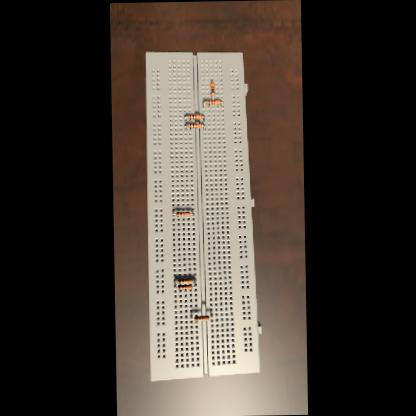breadboard: (142, 48, 262, 379)
resistor: (194, 314, 208, 320), (206, 98, 218, 104), (176, 277, 190, 282), (176, 283, 190, 288), (187, 113, 200, 118), (175, 210, 189, 214), (210, 81, 214, 95), (188, 122, 201, 126)
wire: (202, 100, 206, 106), (184, 124, 187, 128), (191, 314, 194, 318), (173, 283, 176, 286), (192, 282, 195, 285), (202, 124, 204, 128), (209, 313, 211, 317), (219, 101, 221, 105), (184, 116, 186, 119), (192, 277, 194, 280), (174, 278, 176, 280), (202, 116, 204, 118), (172, 213, 174, 214), (190, 212, 192, 213)
